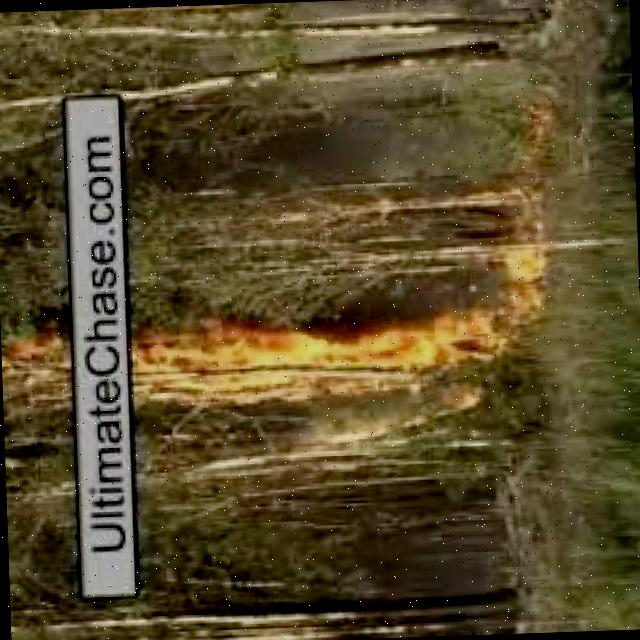fire: (136, 301, 437, 407), (449, 234, 558, 378), (1, 337, 75, 389)
